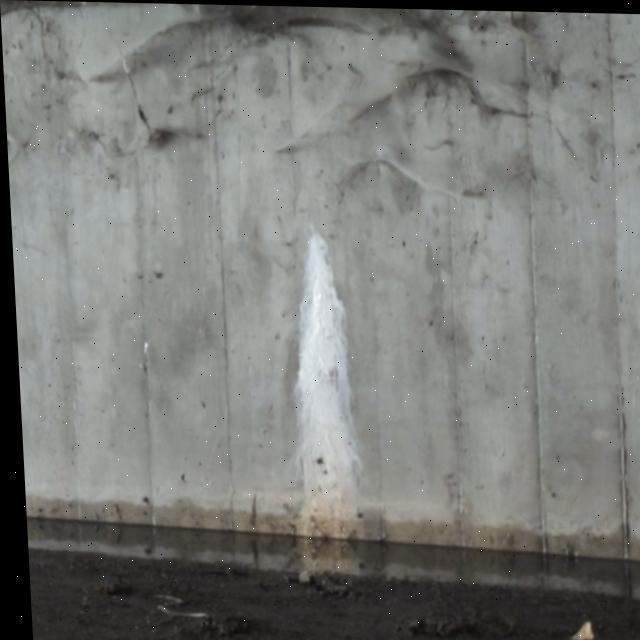D01: (294, 230, 361, 533)
